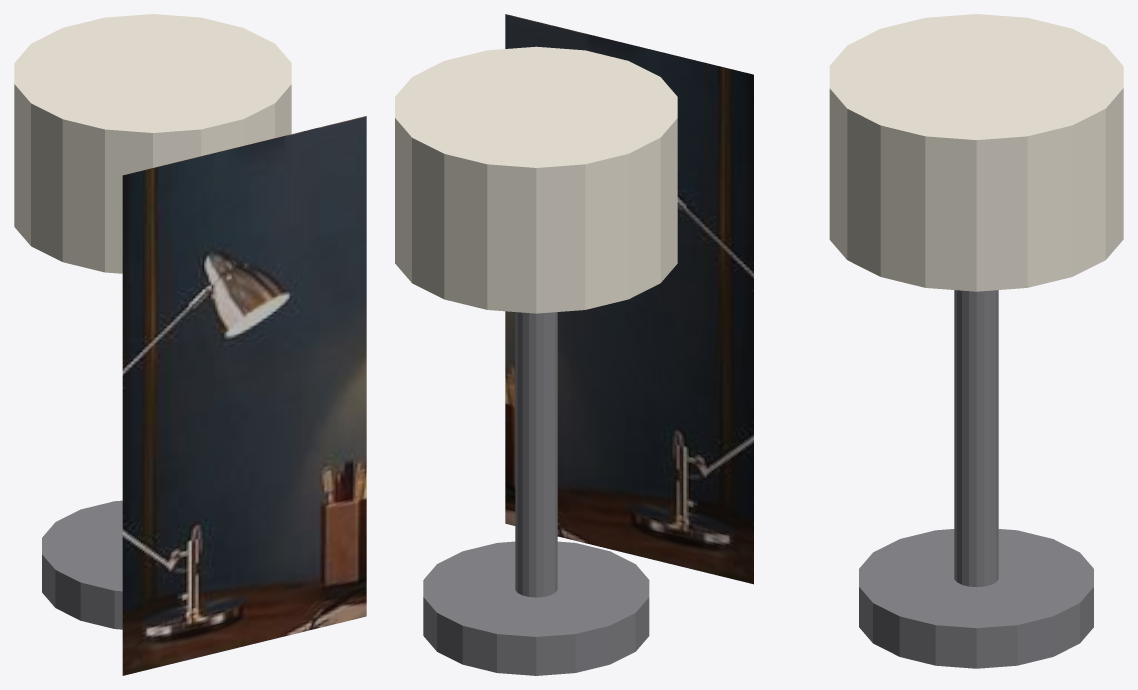
File: mocan-52.glb
The picture shows the model from 3 angles, left to right: view 1: azimuth 30°, elevation 25°; view 2: azimuth 150°, elevation 25°; view 3: azimuth 270°, elevation 25°; orthographic projection. The views are drawn at different scales.
Parts seen in each view (by area): view 1: furniture; view 2: furniture; view 3: furniture.
Boxes of the visible parts, left/top/right/bottom form: furniture: left=14, top=14, right=366, bottom=675; furniture: left=395, top=14, right=753, bottom=675; furniture: left=829, top=14, right=1123, bottom=668.
Bounding box in the file's own units: 0.2 × 0.4 × 0.2285.
3 materials, 1 textured.
